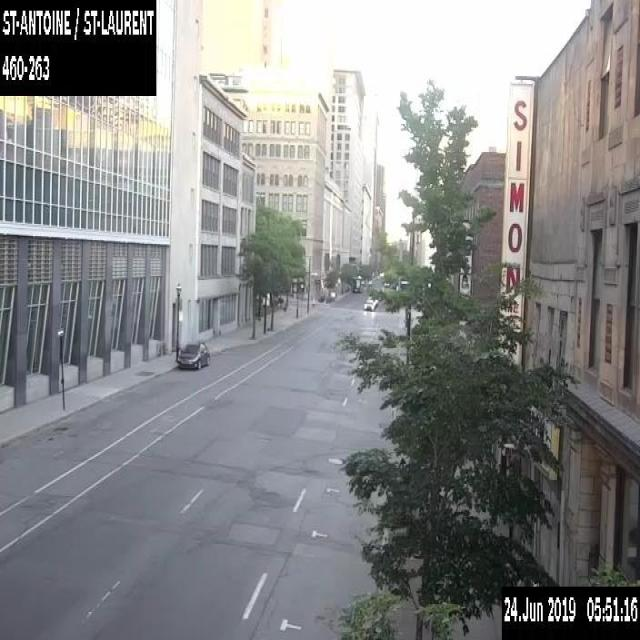vehicle: (177, 341, 209, 369), (363, 295, 378, 309)
